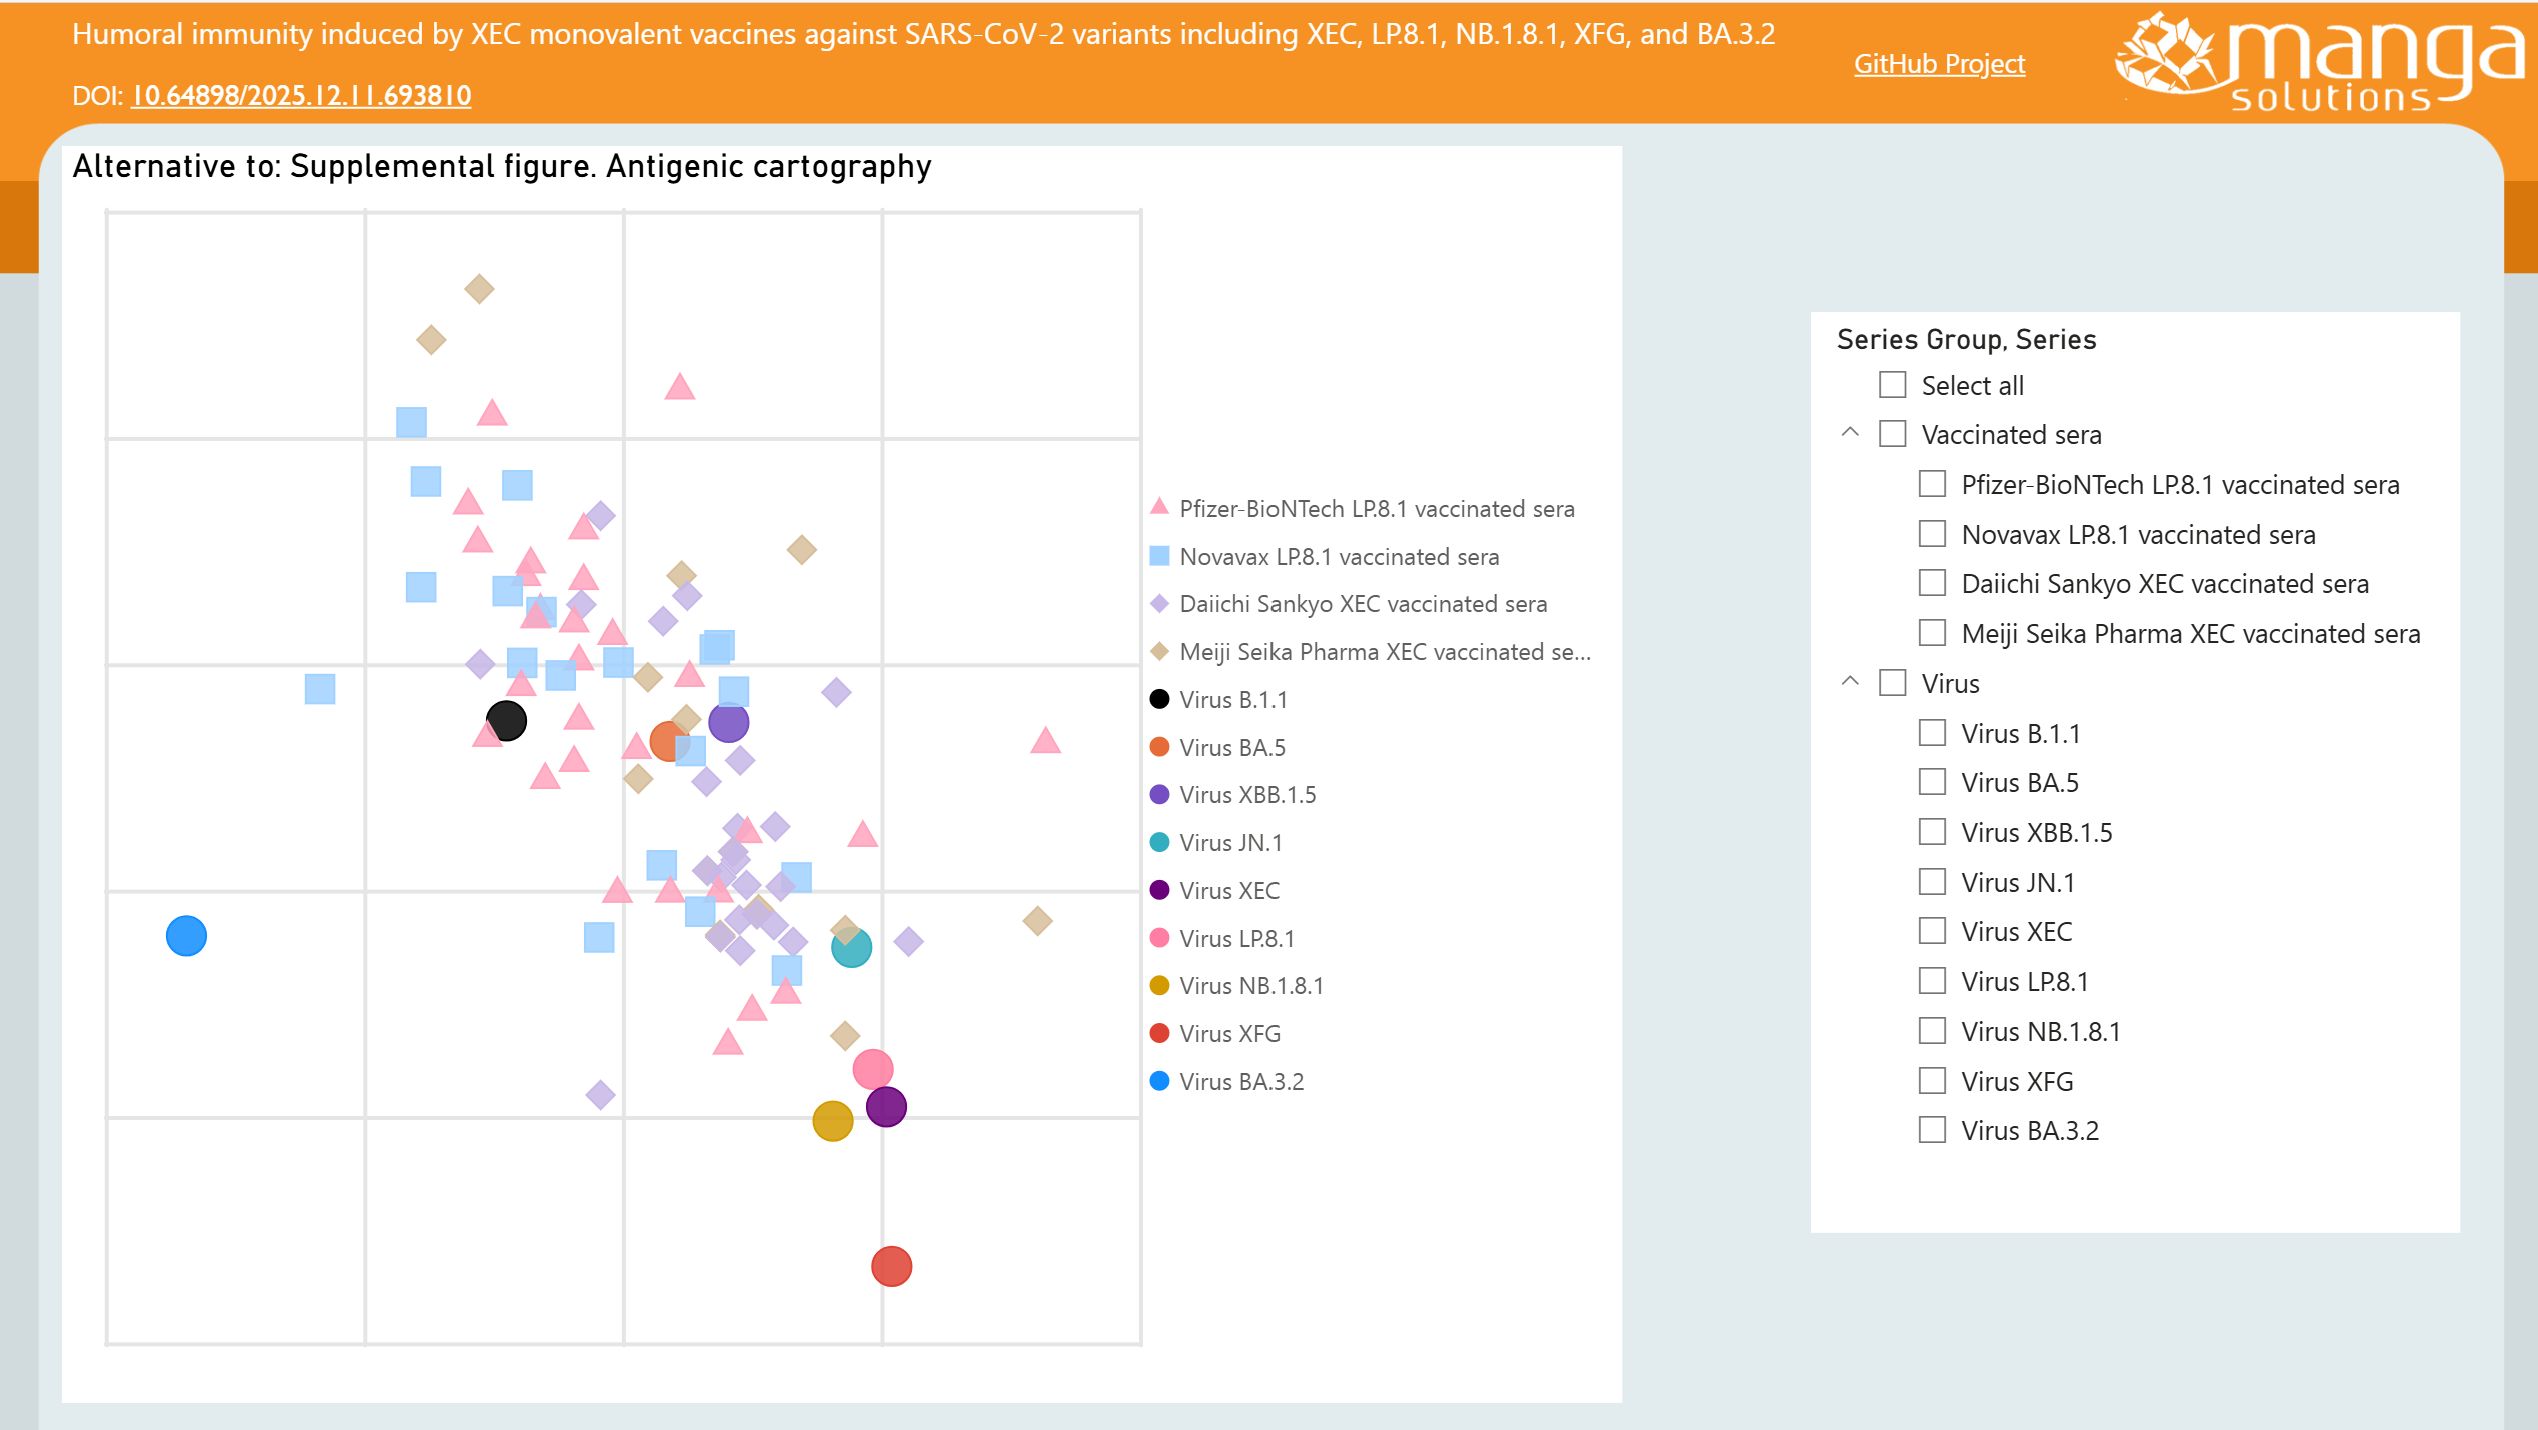

This screenshot's page, from the dashboard's own definition file:
{"tool":"powerbi","page":{"name":"Alternative","canvas":[1280,720],"ordinal":0},"visuals":[{"type":"textbox","box":[32,0,880,48],"z":0},{"type":"actionButton","box":[1056,0,224,64],"z":1000},{"type":"textbox","box":[896,16,128,32],"z":2000},{"type":"textbox","box":[32,32,304,32],"z":3000},{"type":"scatterChart","title":"Alternative to: Supplemental figure. Antigenic cartography ","fields":{"Series":["Antigenic cartography.Series"],"Y":["Antigenic cartography.Y"],"X":["Antigenic cartography.X"],"Size":["Antigenic cartography.# Marker Size"]},"box":[32,72,784,632],"z":4000},{"type":"slicer","fields":{"Values":["Antigenic cartography.Series Group","Antigenic cartography.Series"]},"box":[911.6,155.5,326.4,462.8],"z":5000}]}

Visuals, with their boxes in screenshot pixels (x1, y1, x2, y2), scaled from the page's 1280x720 canvas onto the 2538x1430 screenshot:
textbox: x1=63, y1=0, x2=1808, y2=95
actionButton: x1=2094, y1=0, x2=2537, y2=127
textbox: x1=1777, y1=32, x2=2030, y2=95
textbox: x1=63, y1=64, x2=666, y2=127
"Alternative to: Supplemental figure. Antigenic cartography " scatterChart: x1=63, y1=143, x2=1618, y2=1398
slicer - Antigenic cartography.Series Group x Antigenic cartography.Series: x1=1808, y1=309, x2=2455, y2=1228
